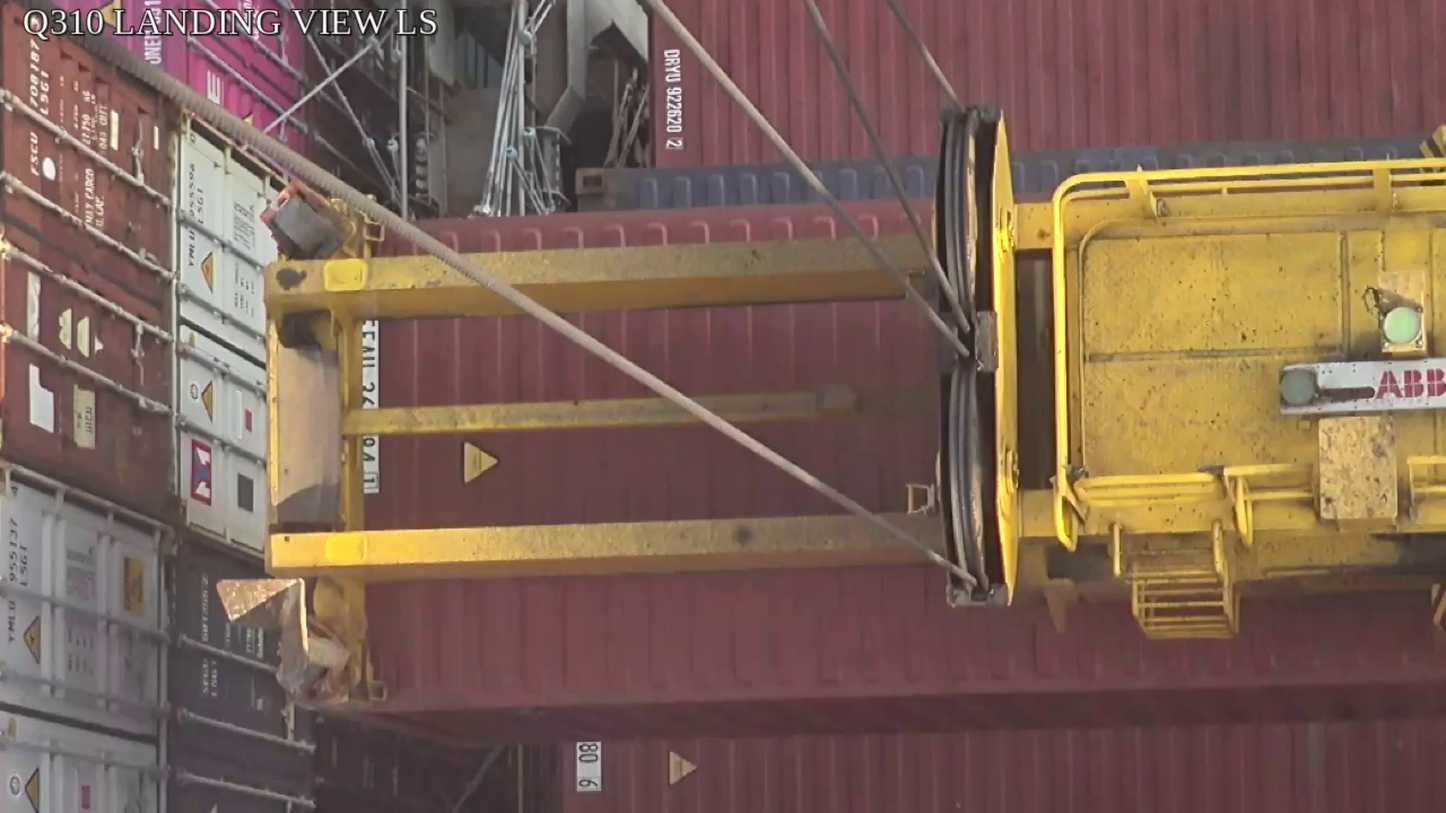aa: (935, 105, 1027, 613)
